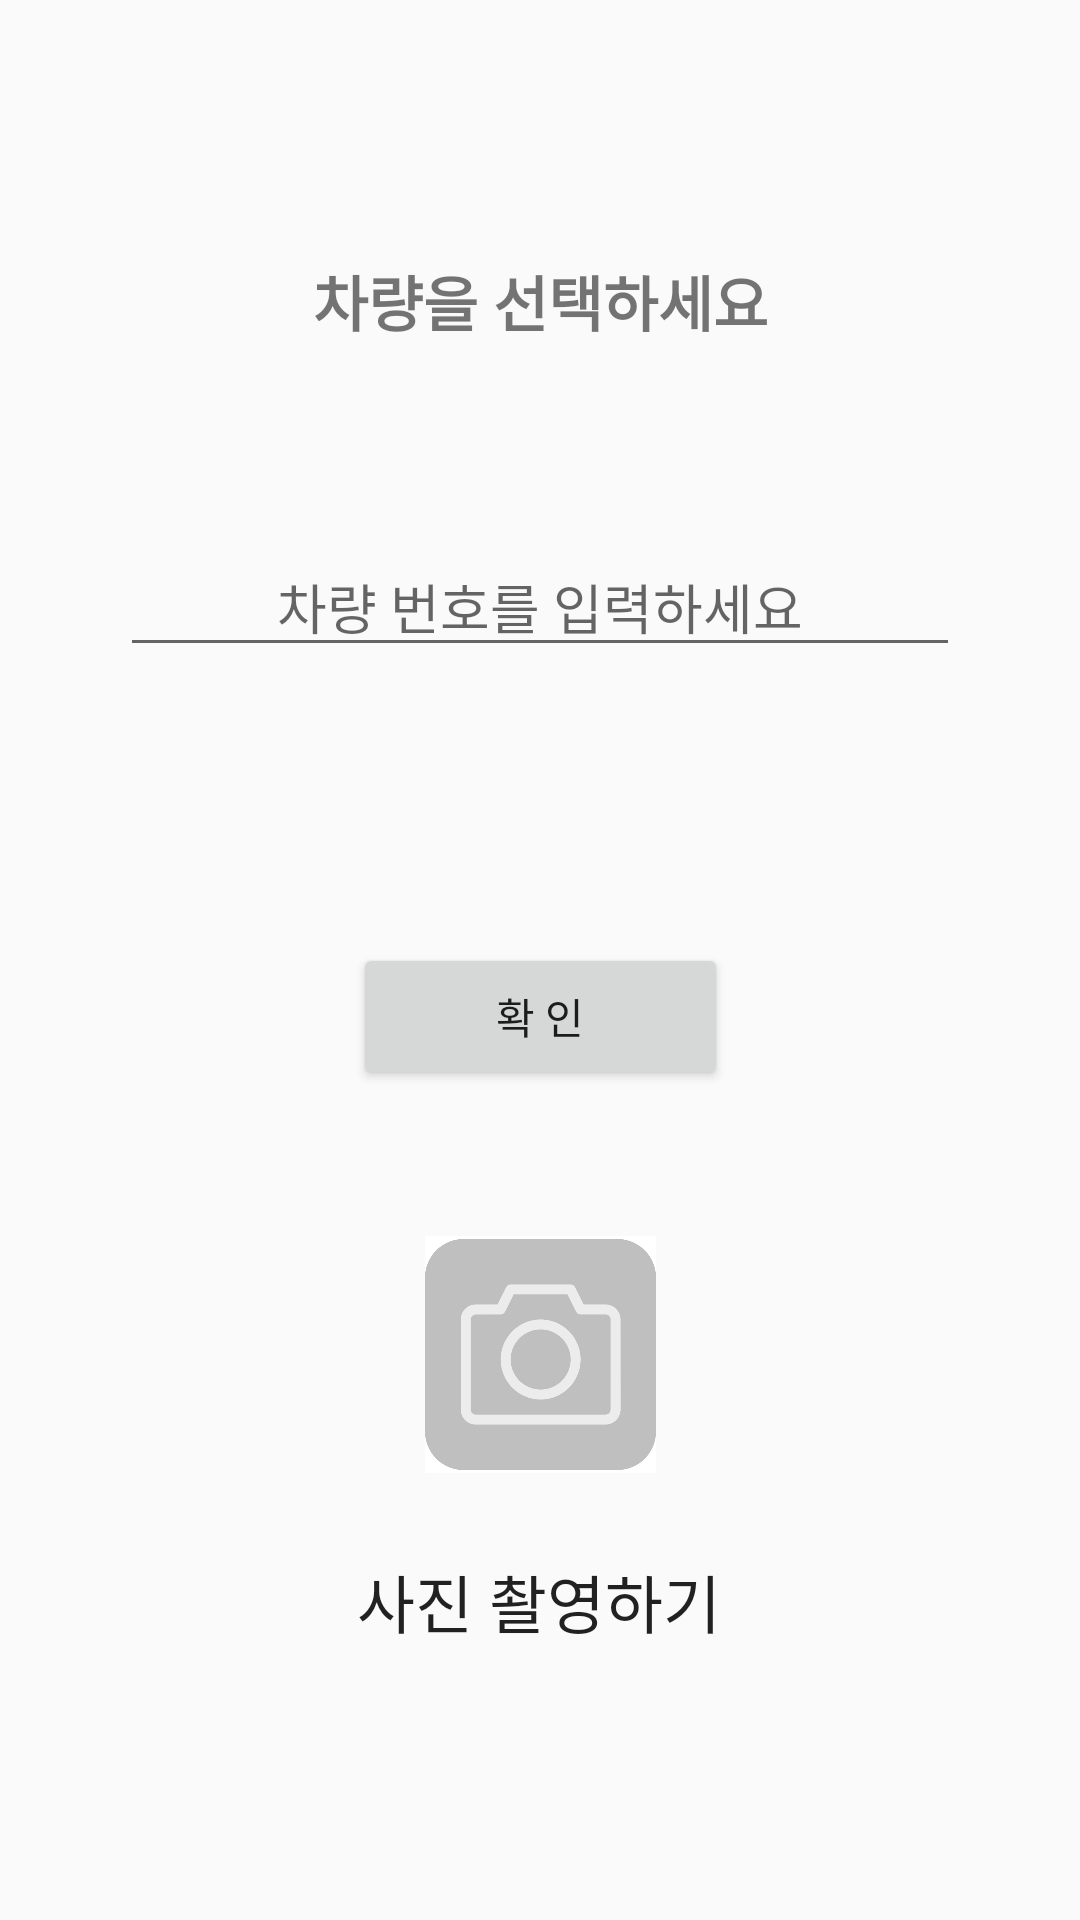

Named icons in this screenshot (1080x1920) and their centers, point (x, y):
cameraicon: point (540, 1354)
